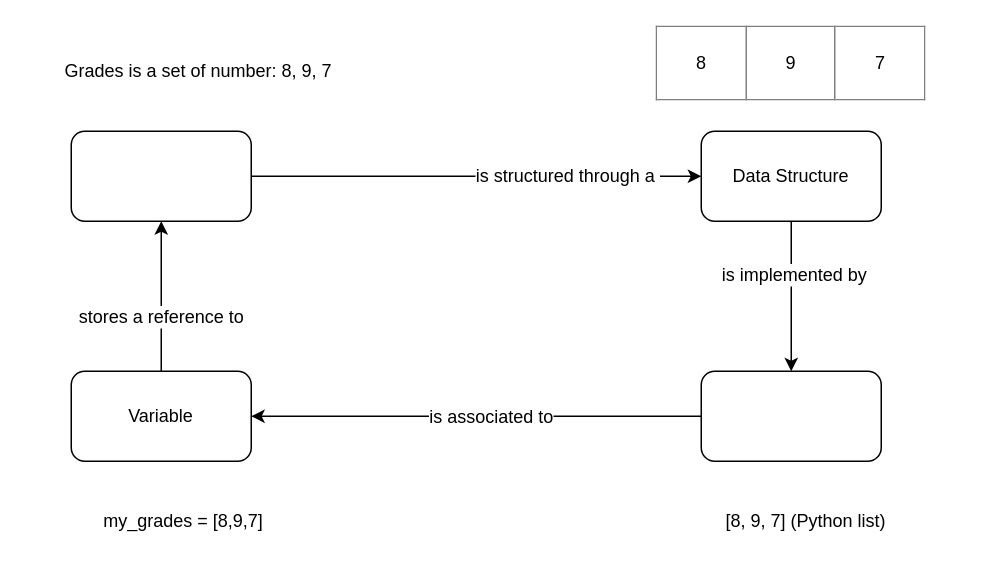
This 989x561 diagram has some shape labels left out. The box of each missing label's shape, as (x1, y1, x2, y2) in pixels:
Data: (70, 130, 251, 221)
Data type: (700, 370, 881, 461)
